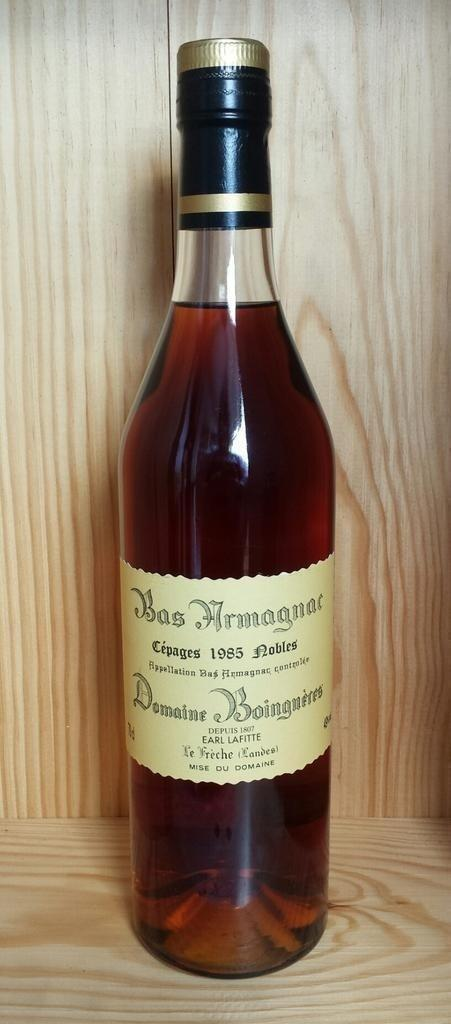bottle-glass: (113, 33, 340, 982)
